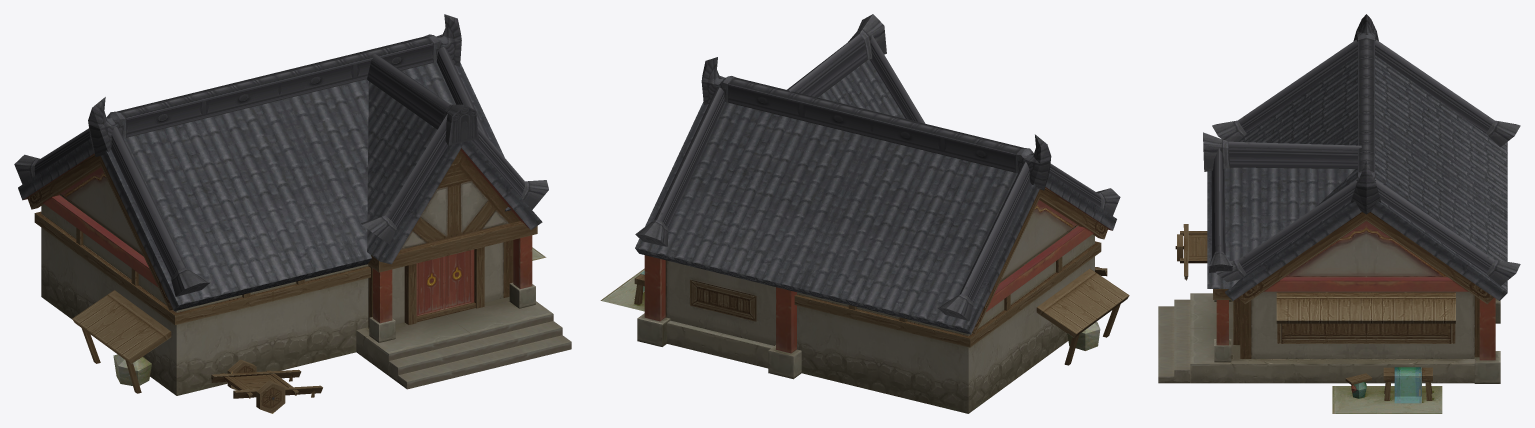
File: City_bujian_22.fbx
The picture shows the model from 3 angles, left to right: view 1: azimuth 30°, elevation 25°; view 2: azimuth 150°, elevation 25°; view 3: azimuth 270°, elevation 25°; orthographic projection. The views are drawn at different scales.
Parts seen in each view (by area): view 1: City_1_2017_3_7_2:City_1_2017_3_7_2:pasted__Box05_0; view 2: City_1_2017_3_7_2:City_1_2017_3_7_2:pasted__Box05_0; view 3: City_1_2017_3_7_2:City_1_2017_3_7_2:pasted__Box05_0.
Boxes of the visible parts, x1,y1,x2,y2 form: City_1_2017_3_7_2:City_1_2017_3_7_2:pasted__Box05_0: (14, 14, 571, 413); City_1_2017_3_7_2:City_1_2017_3_7_2:pasted__Box05_0: (600, 14, 1129, 413); City_1_2017_3_7_2:City_1_2017_3_7_2:pasted__Box05_0: (1158, 14, 1520, 413).
Size of the model in its own units: 16.18 by 8.48 by 12.55.
